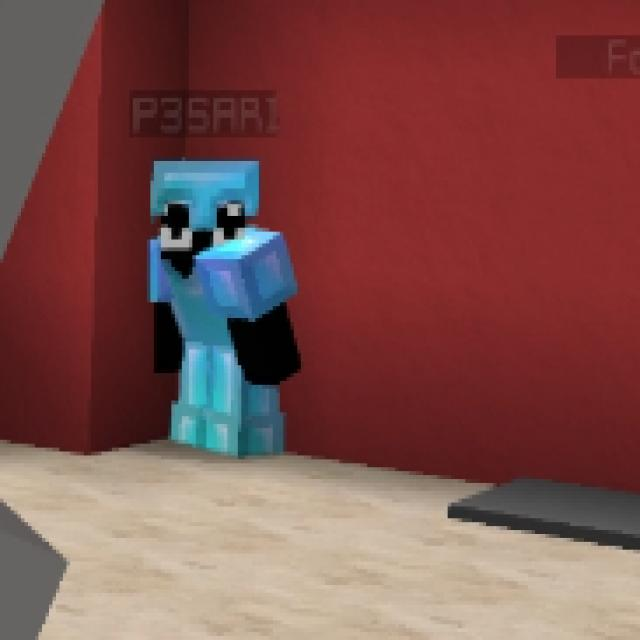Player: (142, 160, 301, 461)
